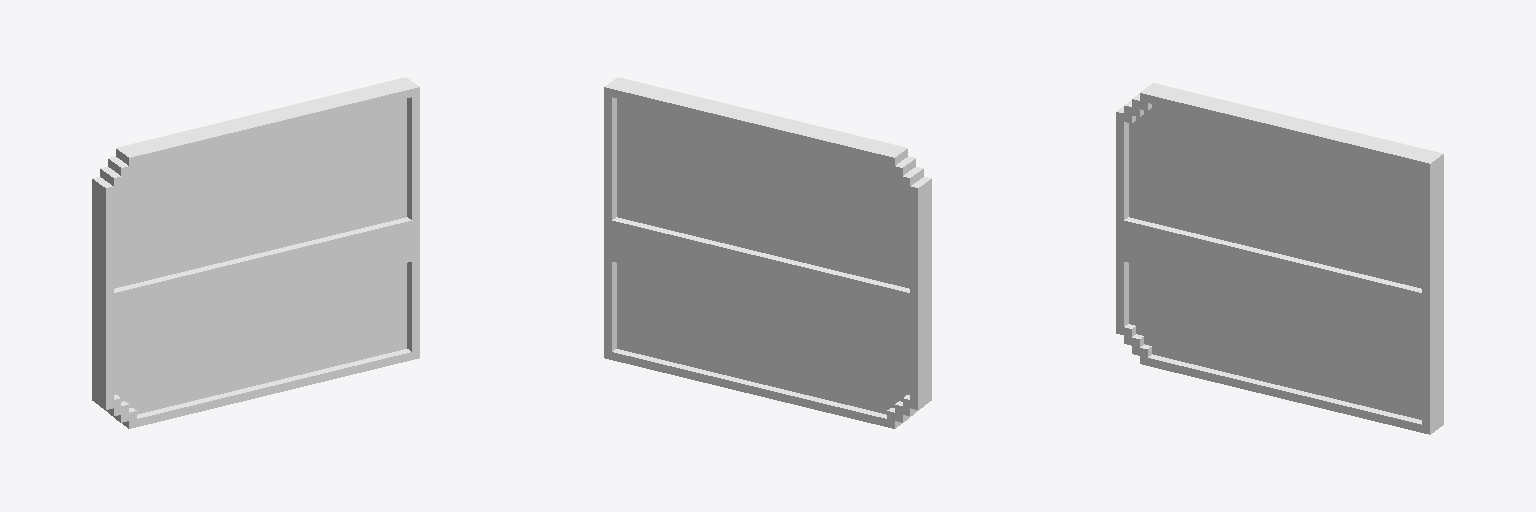
The model's file is mesh_hanger_door-1.obj.
The picture shows the model from 3 angles: view 1: azimuth 30°, elevation 25°; view 2: azimuth 150°, elevation 25°; view 3: azimuth 330°, elevation 25°; orthographic projection.
Visible parts, largest first — view 1: object 1; view 2: object 1; view 3: object 1.
Boxes of the visible parts, <box> form: object 1: <box>92,77,419,428</box>; object 1: <box>604,77,931,428</box>; object 1: <box>1116,83,1443,434</box>.
Bounding box in the file's own units: 4 × 3.3 × 0.3.